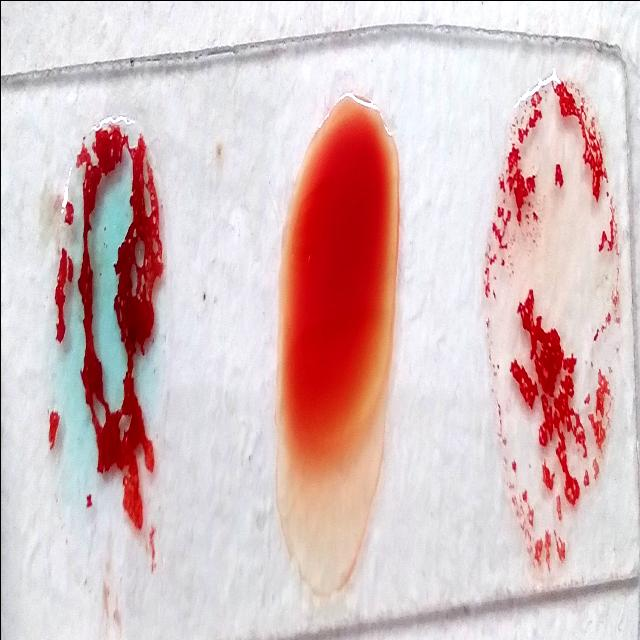A: (52, 115, 161, 599)
D: (496, 69, 612, 568)
